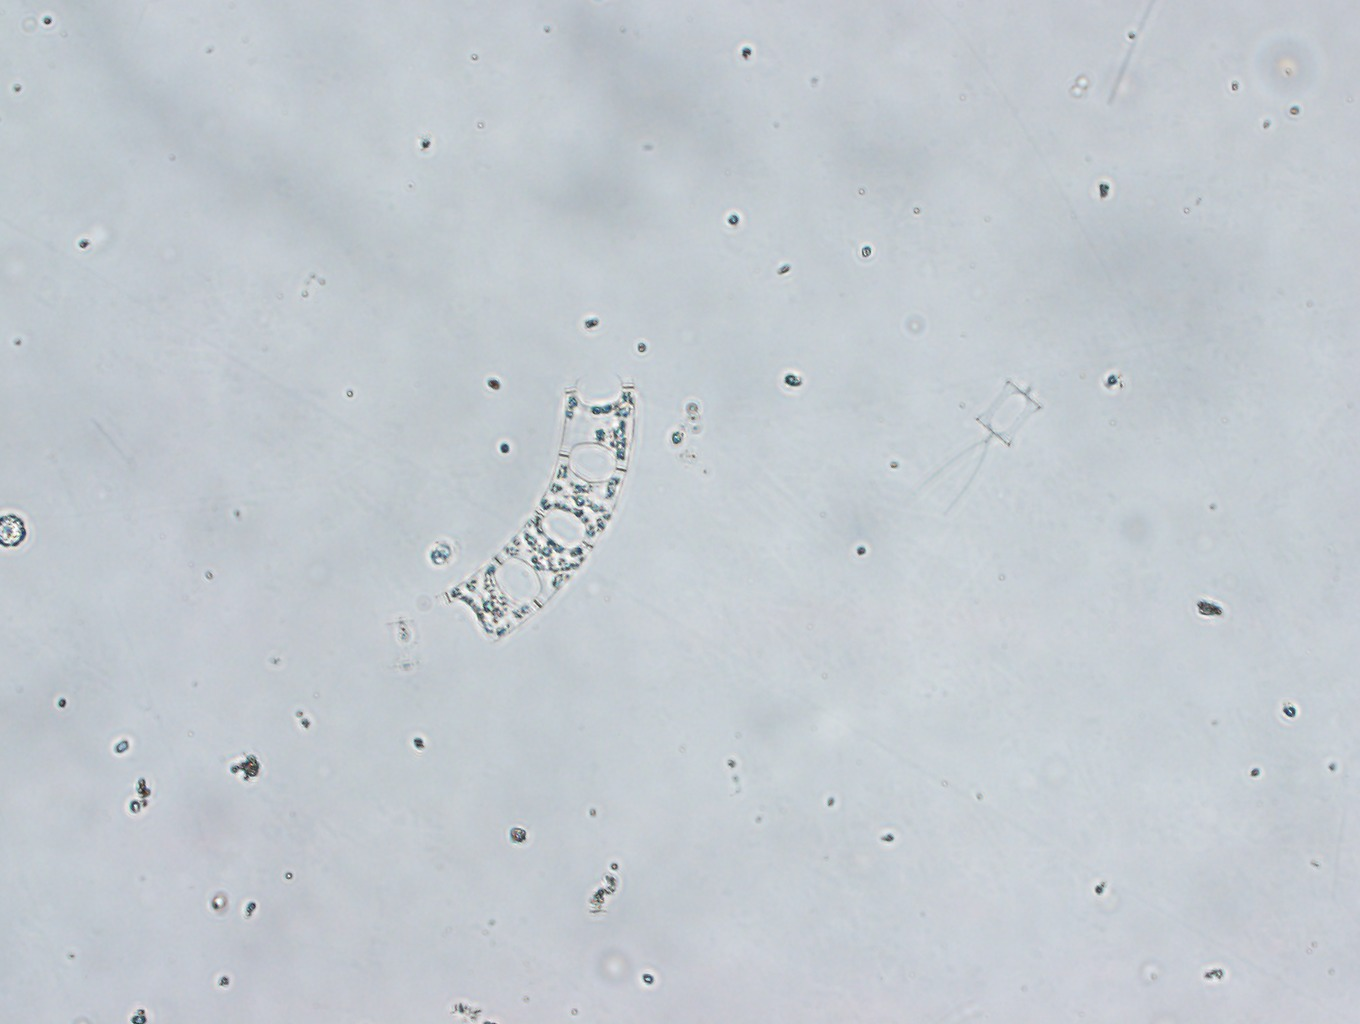chaetoceros: (921, 375, 1043, 520)
eucampia: (442, 365, 639, 649)
